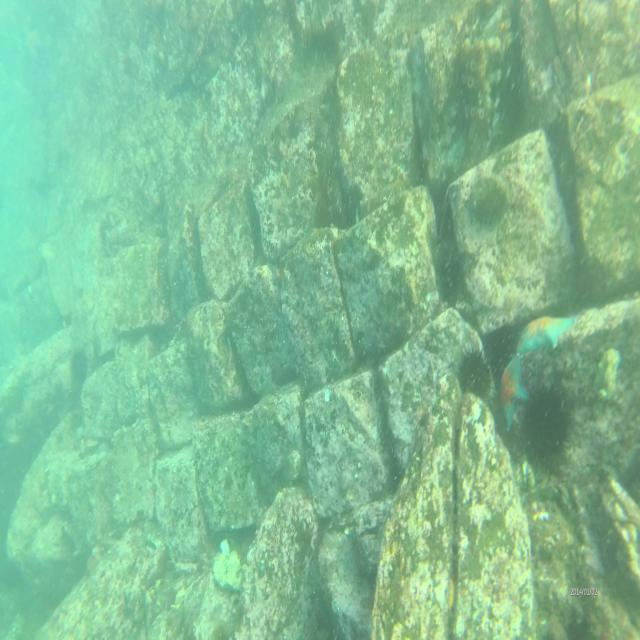echinus: (522, 380, 572, 464), (456, 339, 496, 398), (68, 347, 89, 382)
starfish: (516, 307, 574, 351), (500, 356, 528, 428)
